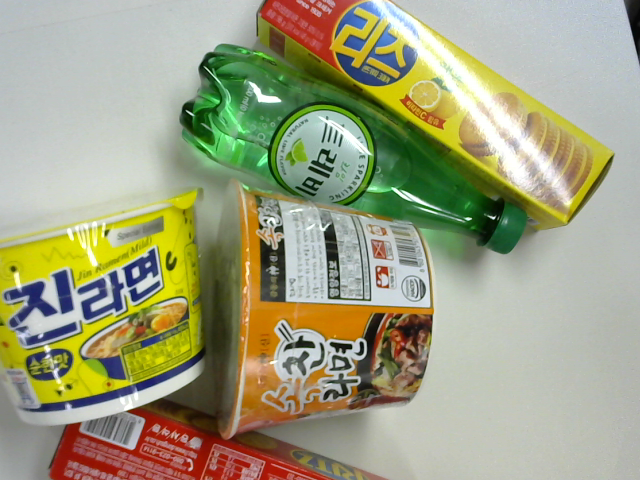Hejangchan: (211, 181, 439, 424)
Jinlamyeon_Mild_Taste_Large_Cup: (1, 183, 219, 418)
Ritz_Cracker: (39, 392, 385, 480)
Ritz_Remon_96g: (260, 1, 619, 219)
Treviraim_500ml: (180, 45, 546, 248)
